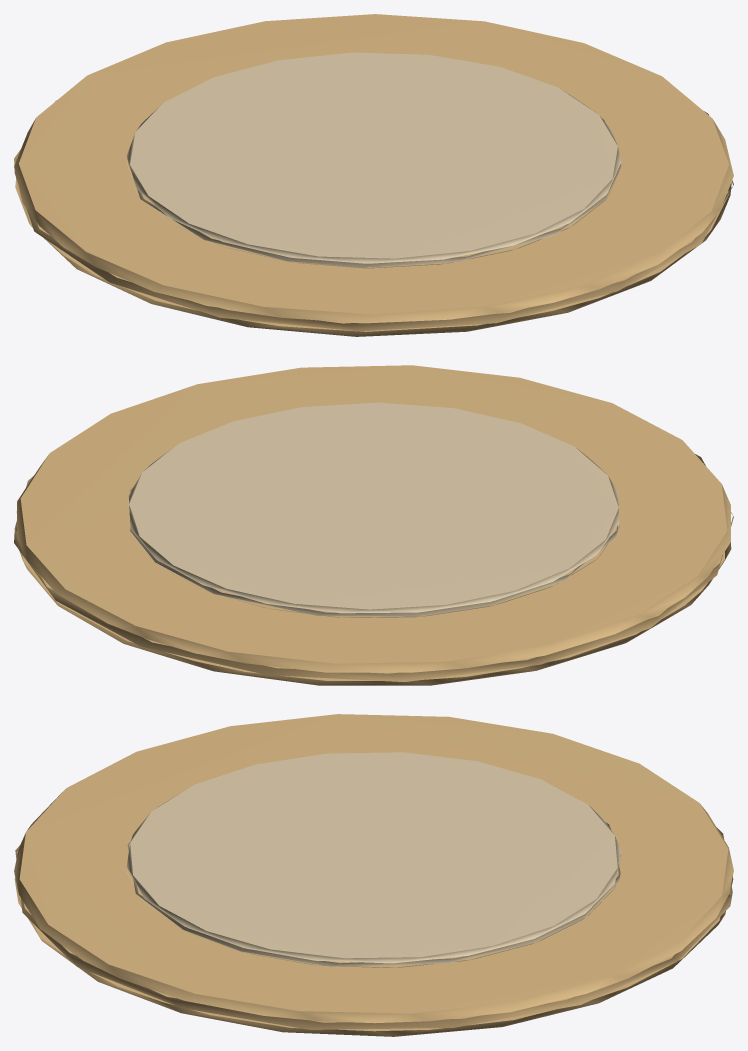
File: pad.lod.glb
The picture shows the model from 3 angles, top to bottom: view 1: azimuth 30°, elevation 25°; view 2: azimuth 150°, elevation 25°; view 3: azimuth 270°, elevation 25°; orthographic projection.
Visible parts, largest first — view 1: pad; view 2: pad; view 3: pad.
Part boxes in pixels (x1,y1,x2,y2): pad: [14, 14, 733, 336]; pad: [14, 365, 733, 685]; pad: [14, 714, 733, 1036].
Size of the model in its own units: 3.21 by 0.1556 by 3.21.
